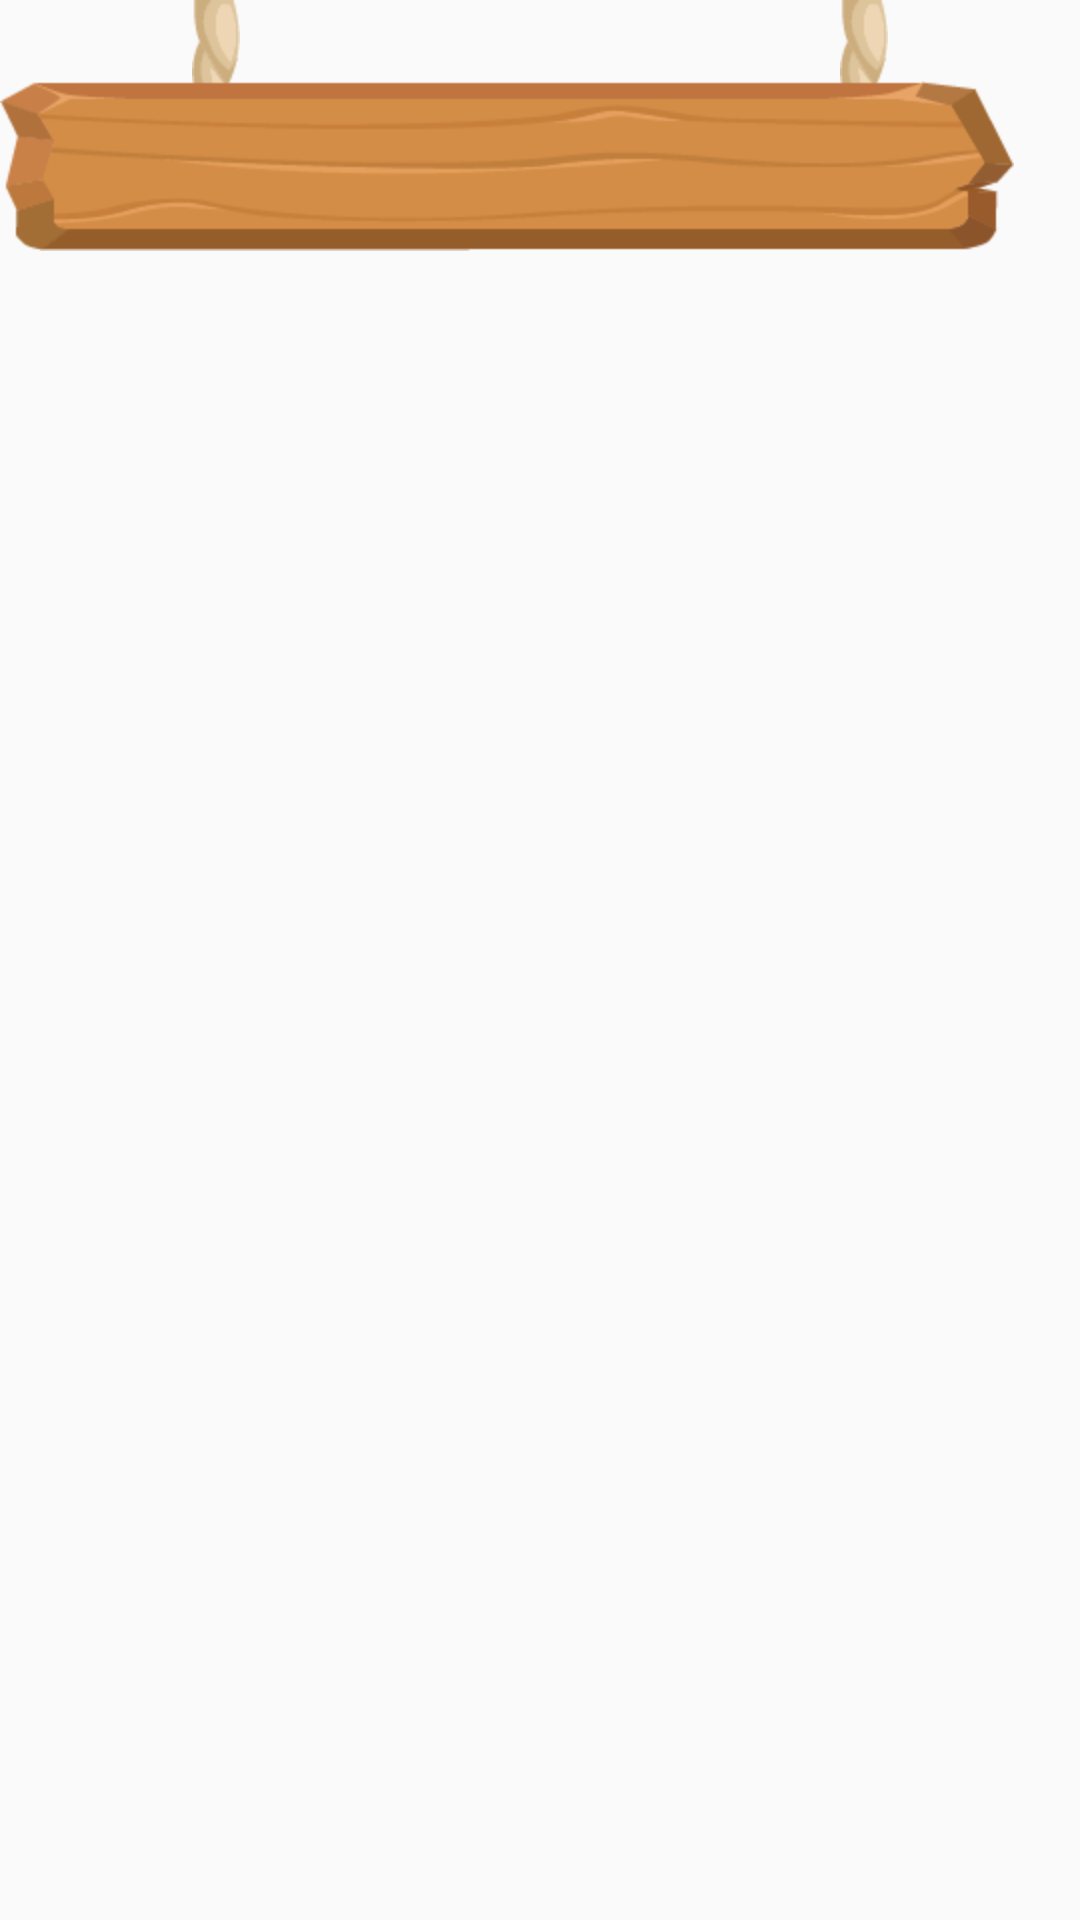

Icons on this 1080px x 1920px Android screen, each with the point to tap as point (x, y):
rope: point (216, 55), point (864, 55)
